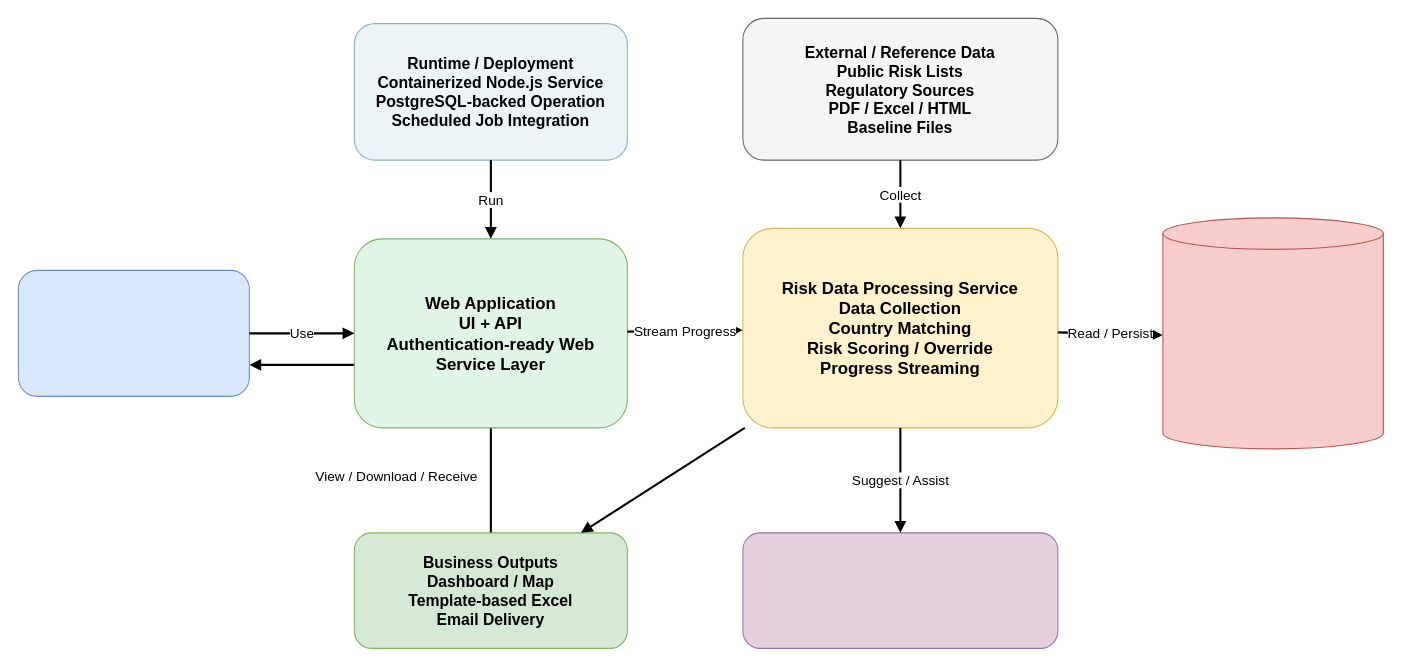
Image size: 1402x667. Some labels were removed from this diagram. The box of each missing label's shape, as (x1, y1, x2, y2) in pixels:
AI Assistance LLM-based Mapping Suggestion Unmapped Country Review: (742, 532, 1058, 648)
Business Users Risk Review / Data Correction Dashboard / Export: (17, 269, 249, 396)
Operational Data Store Country Master Dataset Catalog Risk Ratings User Settings: (1162, 217, 1383, 449)
